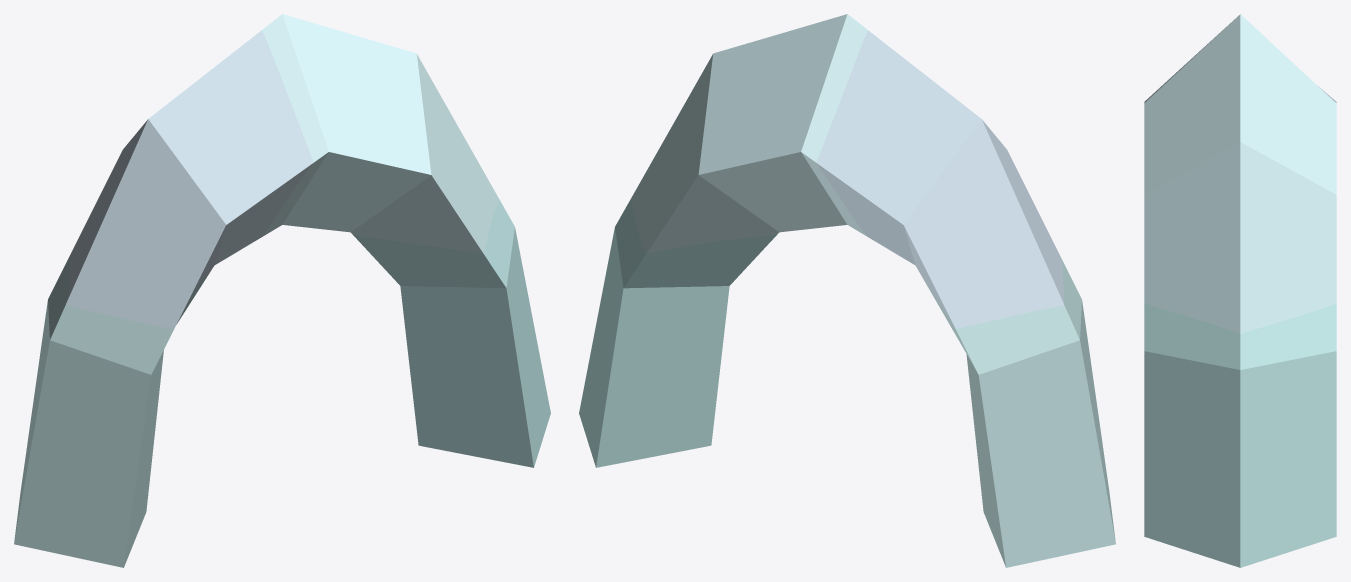
The model's file is SS_IceEntrance2.fbx.
The picture shows the model from 3 angles, left to right: view 1: azimuth 30°, elevation 25°; view 2: azimuth 150°, elevation 25°; view 3: azimuth 270°, elevation 25°; orthographic projection. The views are drawn at different scales.
Visible parts, largest first — view 1: IceEntrance2; view 2: IceEntrance2; view 3: IceEntrance2.
Part boxes in pixels (box(x1,y1,x2,y2)): IceEntrance2: box(14, 14, 550, 567); IceEntrance2: box(579, 14, 1115, 567); IceEntrance2: box(1144, 14, 1336, 567).
Bounding box in the file's own units: 4.51 × 3.73 × 1.5.
